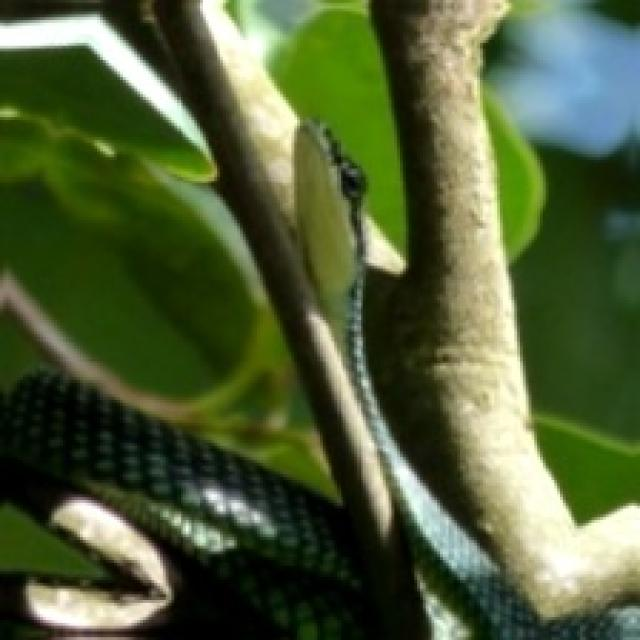paradise tree snake: (290, 120, 640, 639), (0, 375, 368, 640)
